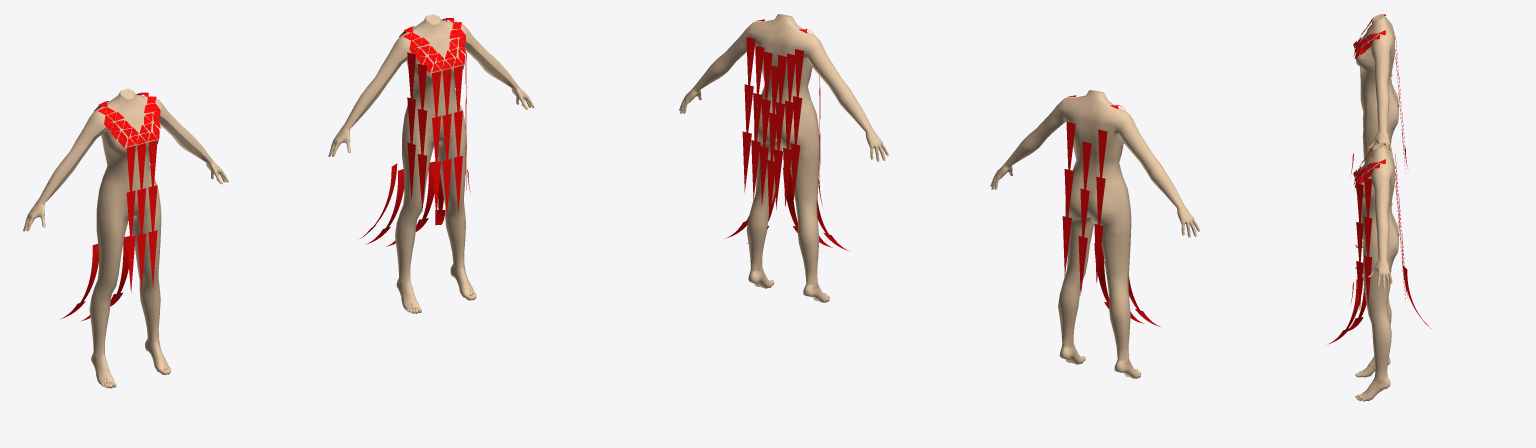
File: wearables2.glb
3 views of the same model, side by side, from view 1: azimuth 30°, elevation 25°; view 2: azimuth 150°, elevation 25°; view 3: azimuth 270°, elevation 25° (orthographic). The views are drawn at different scales.
Bounding box in the file's own units: 119 × 58.81 × 62.58.
